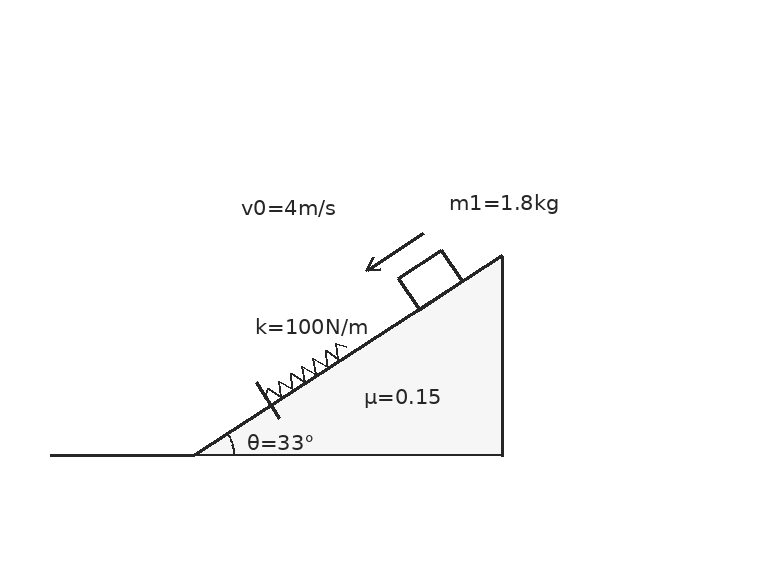block: (396, 248, 463, 311)
ramp: (192, 253, 504, 457)
spring: (264, 341, 348, 399)
